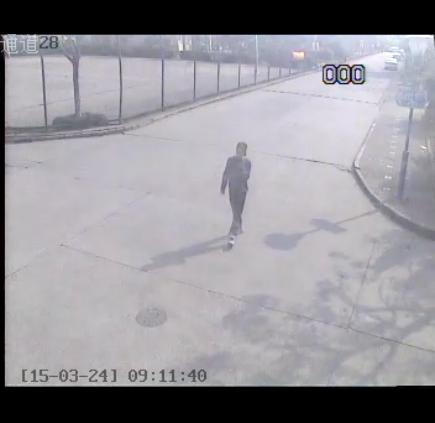person: (219, 140, 253, 249)
